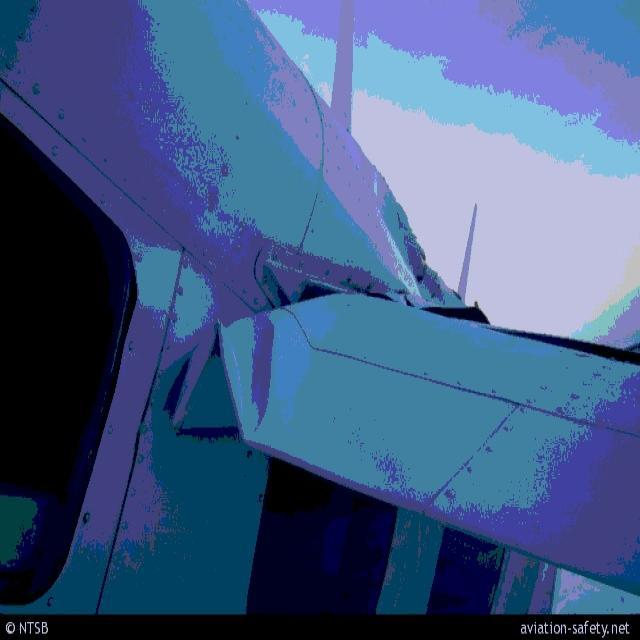dent: (163, 311, 283, 451)
